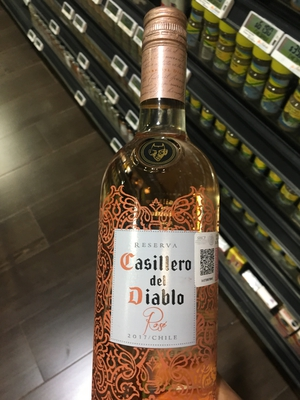casillero del diablo rose: (91, 10, 227, 400)
